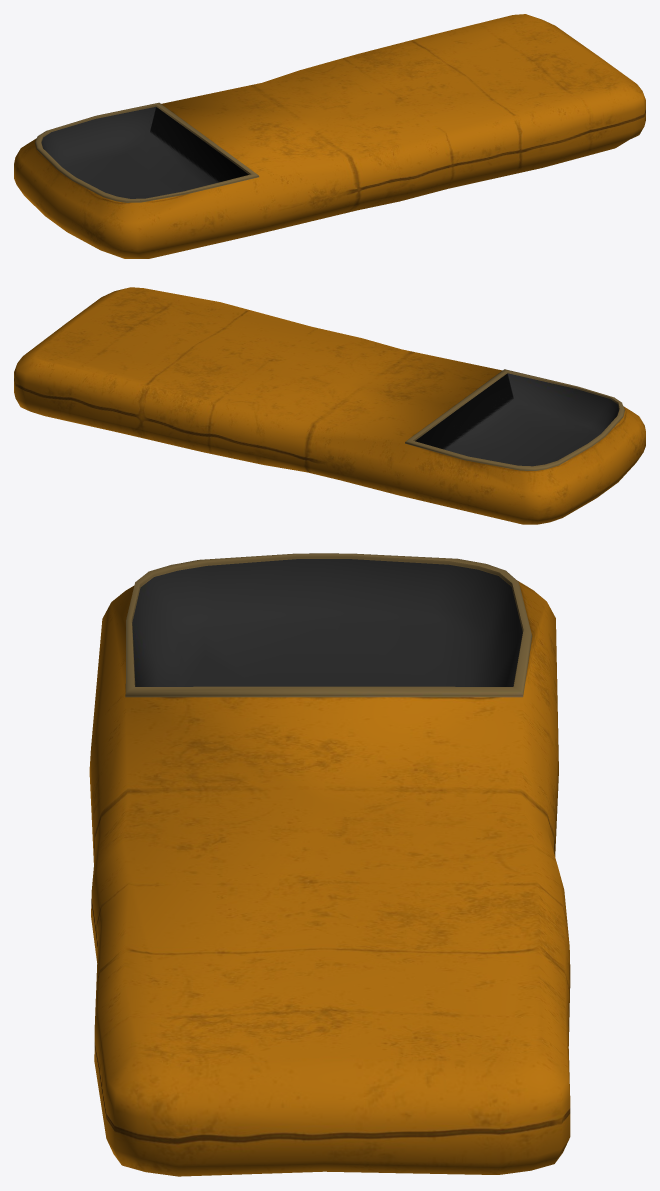
The model's file is camp_sleeping_bag.gltf.
The picture shows the model from 3 angles, top to bottom: view 1: azimuth 30°, elevation 25°; view 2: azimuth 150°, elevation 25°; view 3: azimuth 270°, elevation 25°; orthographic projection. The views are drawn at different scales.
Visible parts, largest first — view 1: Sleepingbag_low; view 2: Sleepingbag_low; view 3: Sleepingbag_low.
Part boxes in pixels (left/top/right/bottom): Sleepingbag_low: left=14, top=14, right=645, bottom=258; Sleepingbag_low: left=14, top=287, right=645, bottom=524; Sleepingbag_low: left=89, top=553, right=570, bottom=1176.
Bounding box in the file's own units: 2 × 0.2209 × 0.7537.
1 material, 1 textured.
